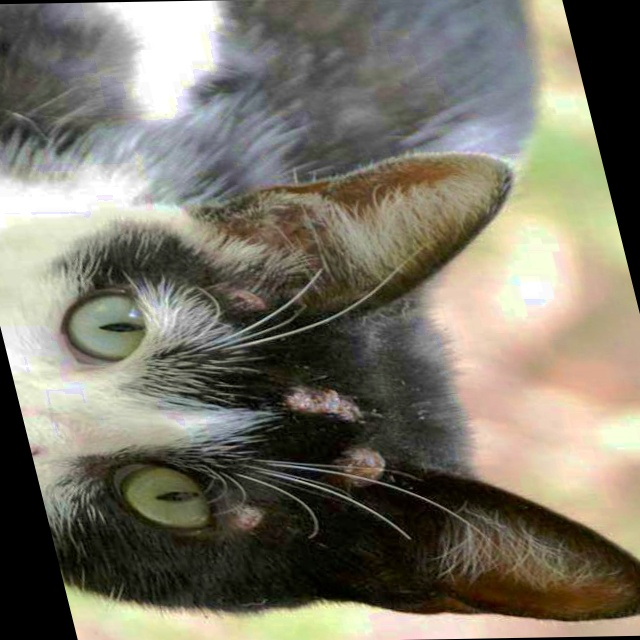lump_and_bump: (282, 386, 351, 418), (342, 456, 386, 483), (231, 507, 269, 533), (229, 290, 264, 310)
